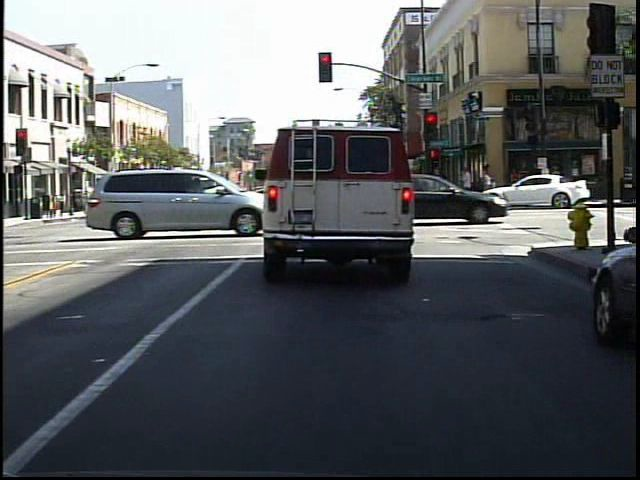person: (524, 157, 545, 208), (505, 161, 526, 205)
